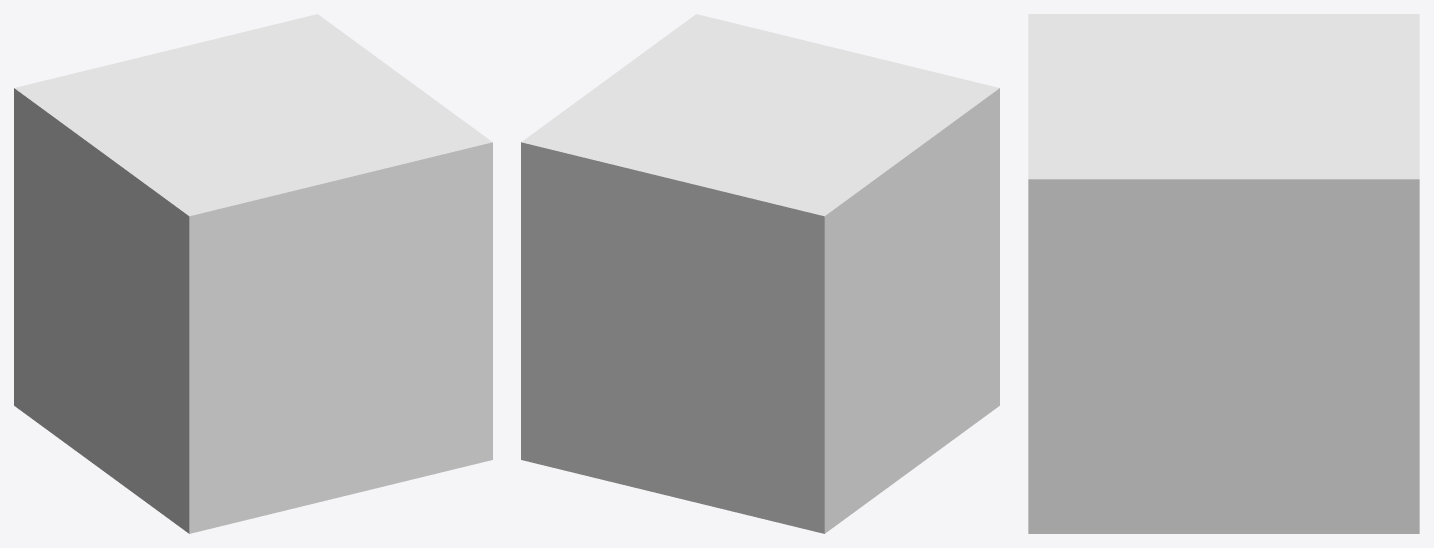
File: single_guides_high.obj
3 views of the same model, side by side, from view 1: azimuth 30°, elevation 25°; view 2: azimuth 150°, elevation 25°; view 3: azimuth 270°, elevation 25° (orthographic). The views are drawn at different scales.
Parts seen in each view (by area): view 1: guides; view 2: guides; view 3: guides.
Boxes of the visible parts, <box> form: guides: <box>14,14,492,533</box>; guides: <box>521,14,999,533</box>; guides: <box>1028,14,1419,533</box>.
Bounding box in the file's own units: 1 × 1 × 1.
1 material, 1 textured.
